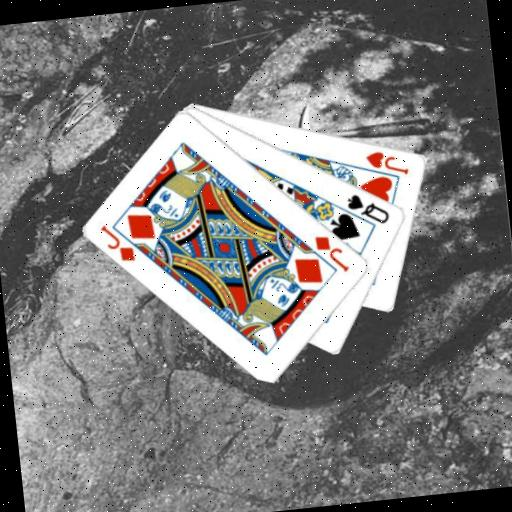JD: (97, 219, 138, 267), (311, 230, 352, 276)
JH: (362, 145, 411, 180)
QS: (343, 188, 392, 230)
